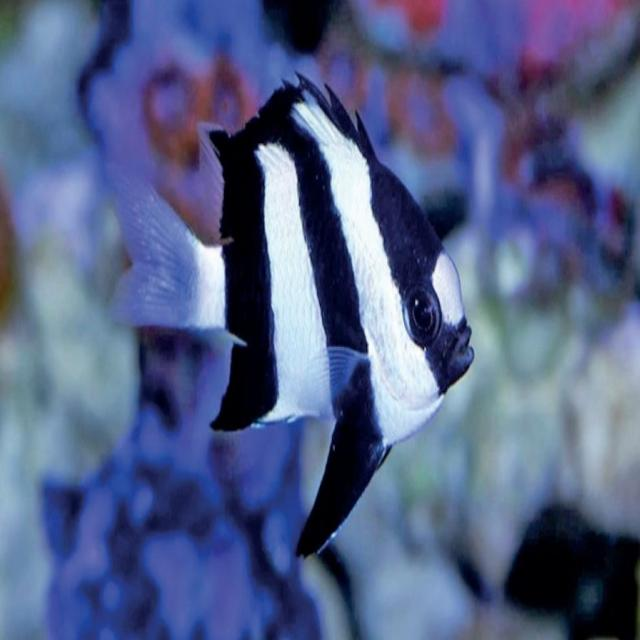ThreeStripedDamselfish: (108, 76, 480, 561)
